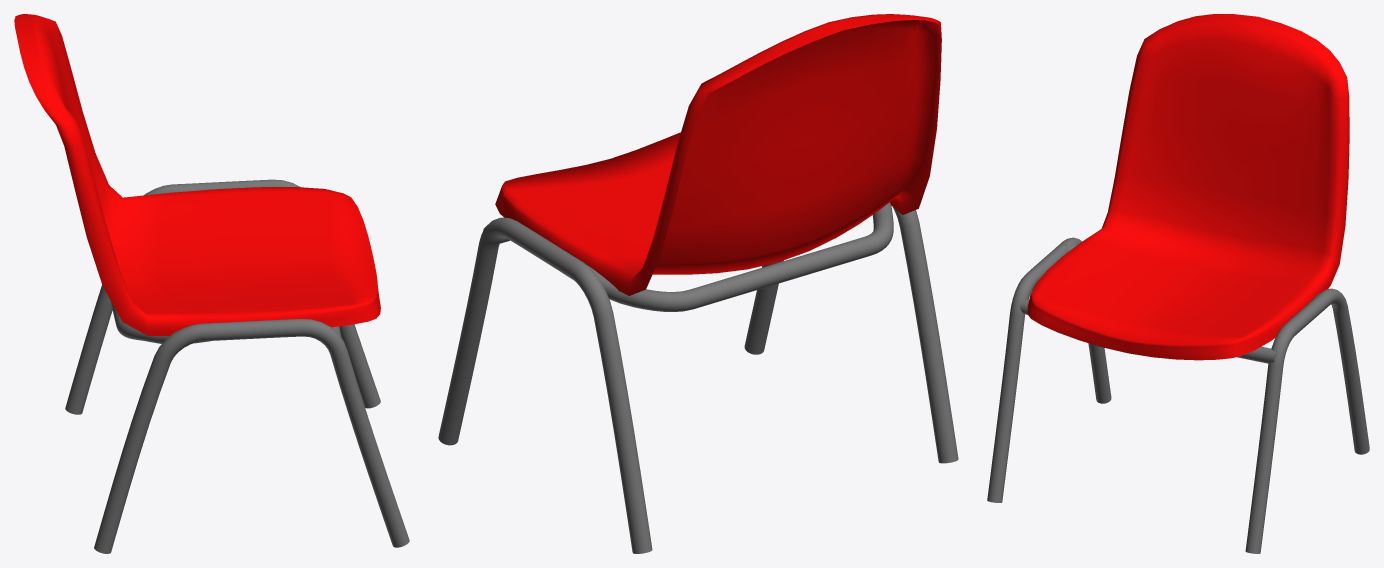
Rendered from PlaceholderPlasticChair.FBX.
3 renders of one model, left to right at view 1: azimuth 30°, elevation 25°; view 2: azimuth 150°, elevation 25°; view 3: azimuth 270°, elevation 25°, orthographic. The views are drawn at different scales.
Visible parts, largest first — view 1: Rectangle12, Loft51, Loft53, Loft55; view 2: Rectangle12, Loft53, Loft51, Loft55; view 3: Rectangle12, Loft53, Loft51, Loft54.
Boxes of the visible parts, x1,y1,x2,y2 form: Rectangle12: (14, 14, 380, 335); Loft51: (94, 319, 409, 553); Loft53: (65, 179, 380, 414); Loft55: (110, 184, 214, 343); Rectangle12: (495, 14, 941, 295); Loft53: (438, 217, 652, 553); Loft51: (744, 206, 958, 463); Loft55: (555, 202, 893, 311); Rectangle12: (1027, 14, 1349, 360); Loft53: (1245, 288, 1369, 553); Loft51: (987, 237, 1111, 502); Loft54: (1020, 299, 1276, 363).
Size of the model in its own units: 75.26 by 84.04 by 74.81.
